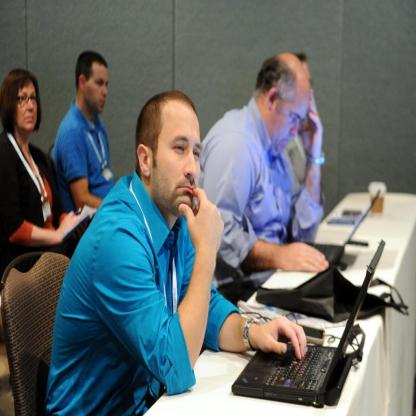board: (223, 237, 392, 405), (302, 190, 380, 267)
